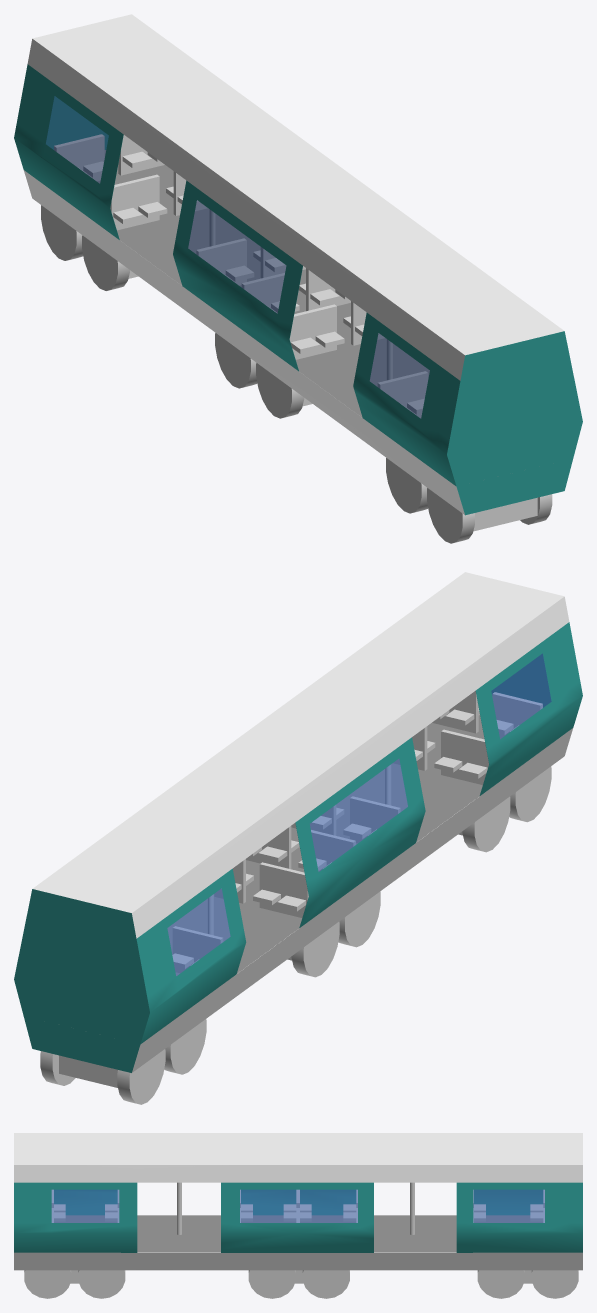
Rendered from train.FBX.
3 renders of one model, top to bottom at view 1: azimuth 30°, elevation 25°; view 2: azimuth 150°, elevation 25°; view 3: azimuth 270°, elevation 25°, orthographic. The views are drawn at different scales.
Visible parts, largest first — view 1: Box02, Box16, Box10, Cylinder02, Box14, Cylinder06, Cylinder09, Box18, Cylinder07, Cylinder10, Cylinder03, Box05 (+4 smaller); view 2: Box02, Box14, Box05, Cylinder10, Box10, Cylinder03, Cylinder07, Box16, Cylinder09, Cylinder02, Cylinder06, Box08 (+5 smaller); view 3: Box02, Cylinder12, Cylinder11, Cylinder01, Cylinder04, Cylinder05, Cylinder08, Box12, Box05, Box14, Box18, Box08 (+4 smaller).
Part boxes in pixels (bbox=[...]): Box02: bbox=[14, 14, 582, 515]; Box16: bbox=[110, 174, 167, 230]; Box10: bbox=[289, 304, 344, 359]; Cylinder02: bbox=[427, 488, 474, 543]; Box14: bbox=[196, 238, 254, 285]; Cylinder06: bbox=[256, 363, 304, 418]; Cylinder09: bbox=[82, 235, 129, 290]; Box18: bbox=[54, 134, 104, 181]; Cylinder07: bbox=[215, 333, 257, 388]; Cylinder10: bbox=[41, 205, 83, 260]; Cylinder03: bbox=[386, 458, 427, 513]; Box05: bbox=[377, 371, 428, 418]; Box02: bbox=[14, 572, 582, 1072]; Box14: bbox=[253, 862, 308, 917]; Box05: bbox=[434, 729, 488, 784]; Cylinder10: bbox=[117, 1049, 165, 1104]; Box10: bbox=[343, 796, 400, 843]; Cylinder03: bbox=[462, 796, 510, 852]; Cylinder07: bbox=[291, 921, 339, 977]; Box16: bbox=[172, 926, 223, 972]; Cylinder09: bbox=[164, 1019, 206, 1074]; Cylinder02: bbox=[509, 766, 551, 822]; Cylinder06: bbox=[338, 891, 380, 947]; Box08: bbox=[492, 692, 542, 738]; Box02: bbox=[14, 1133, 582, 1270]; Cylinder12: bbox=[477, 1270, 524, 1298]; Cylinder11: bbox=[531, 1270, 578, 1298]; Cylinder01: bbox=[24, 1270, 71, 1298]; Cylinder04: bbox=[78, 1270, 125, 1298]; Cylinder05: bbox=[248, 1270, 295, 1298]; Cylinder08: bbox=[302, 1270, 349, 1298]; Box12: bbox=[283, 1189, 311, 1221]; Box05: bbox=[105, 1189, 119, 1221]; Box14: bbox=[343, 1189, 357, 1221]; Box18: bbox=[530, 1189, 544, 1221]; Box08: bbox=[51, 1189, 65, 1221].
Bounding box in the file's own units: 60.81 × 335 × 87.9.
